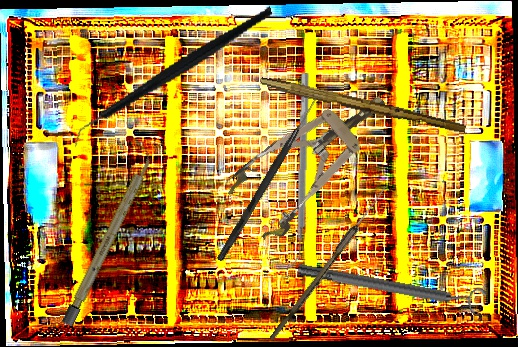Chopper: (54, 5, 292, 151)
Fixation Ring: (295, 253, 488, 319)
Hook Surgical: (216, 93, 320, 264)
Scalpel Handle: (61, 150, 156, 328), (258, 76, 468, 135)
Spatula Surgical: (288, 72, 310, 267)
Speculum: (219, 70, 409, 247)
Surgical Spoon: (269, 183, 389, 344)
